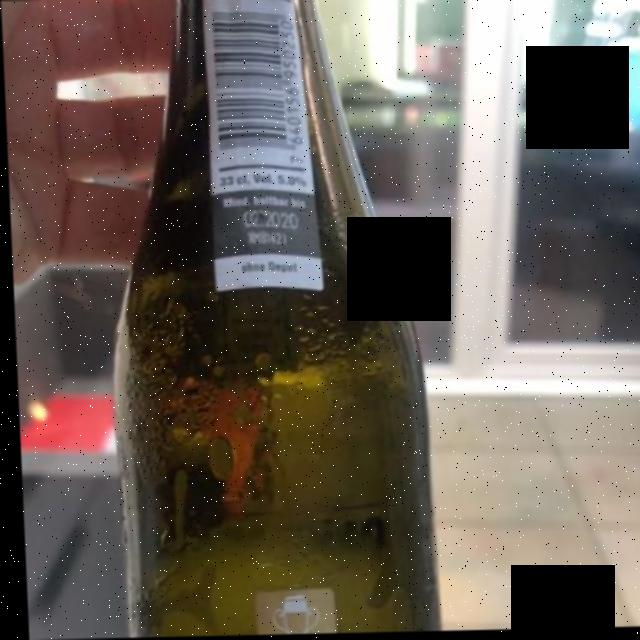beer: (117, 0, 447, 627)
